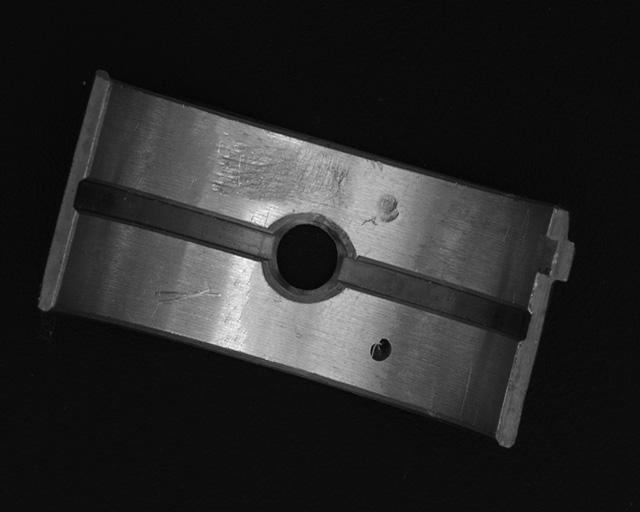blot: (369, 338, 392, 362)
bruise: (360, 193, 400, 227), (367, 157, 385, 172)
gap: (342, 255, 529, 343), (78, 179, 272, 259)
hole: (263, 212, 350, 303)
nick: (154, 286, 221, 305)
scratch: (208, 130, 357, 212)
